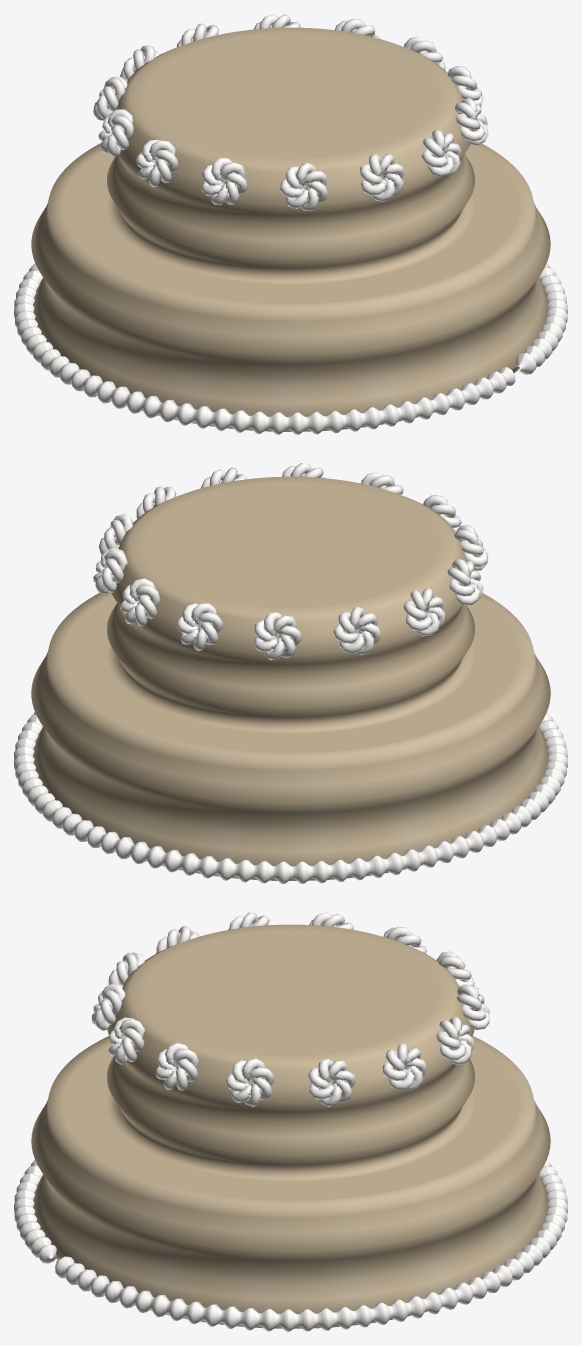
File: cake.glb
3 views of the same model, one above another, from view 1: azimuth 30°, elevation 25°; view 2: azimuth 150°, elevation 25°; view 3: azimuth 270°, elevation 25° (orthographic).
Size of the model in its own units: 0.2933 by 0.1392 by 0.2933.
